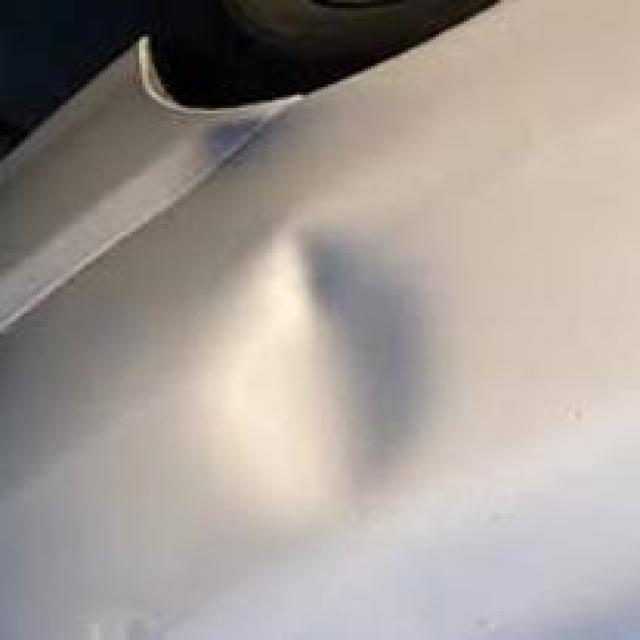dent: (168, 195, 453, 530)
